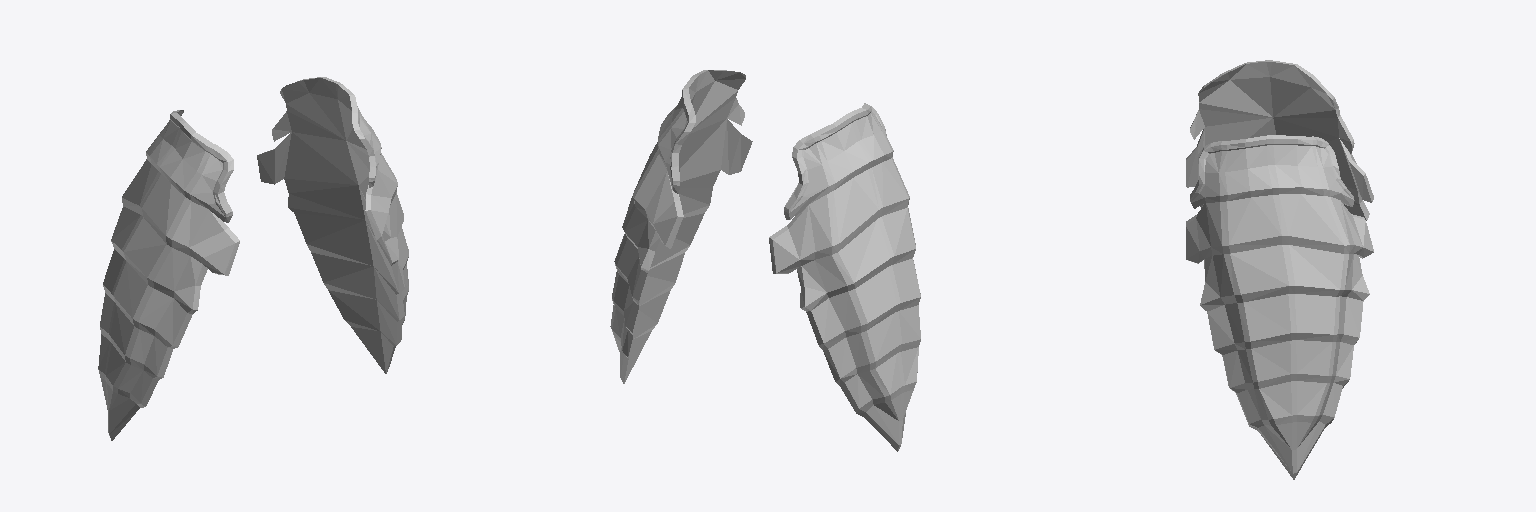
Rendered from sides.obj.
The picture shows the model from 3 angles: view 1: azimuth 30°, elevation 25°; view 2: azimuth 150°, elevation 25°; view 3: azimuth 270°, elevation 25°; orthographic projection.
Visible parts, largest first — view 1: A_9491:mesh2 group; view 2: A_9491:mesh2 group; view 3: A_9491:mesh2 group.
Boxes of the visible parts, <box> form: A_9491:mesh2 group: <box>98,77,408,440</box>; A_9491:mesh2 group: <box>610,70,920,451</box>; A_9491:mesh2 group: <box>1186,60,1373,479</box>.
Size of the model in its own units: 48.93 by 50.45 by 27.42.